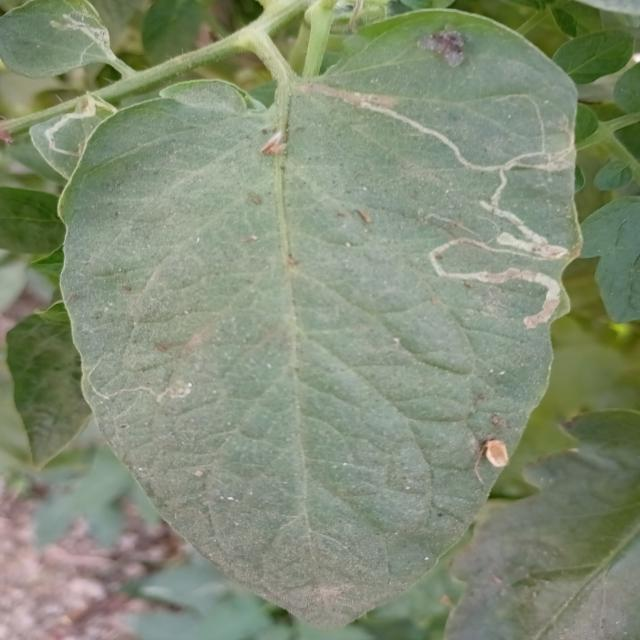Tuta absoluta: (337, 100, 590, 264), (422, 217, 569, 336)
